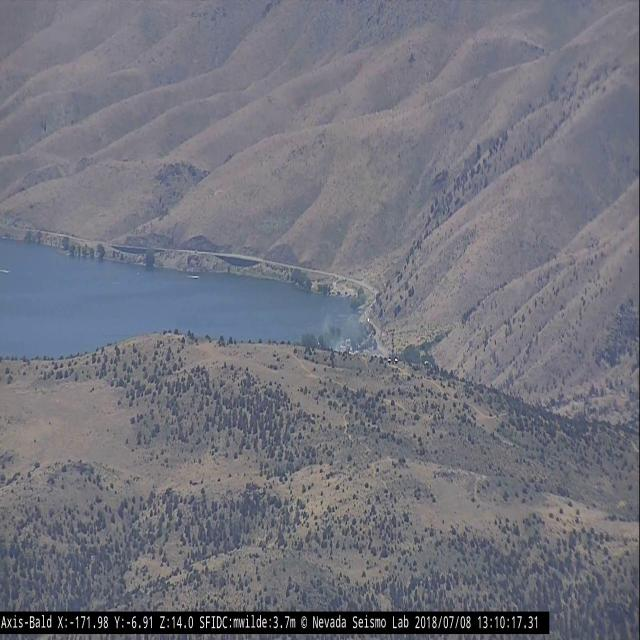smoke: (321, 308, 386, 358)
